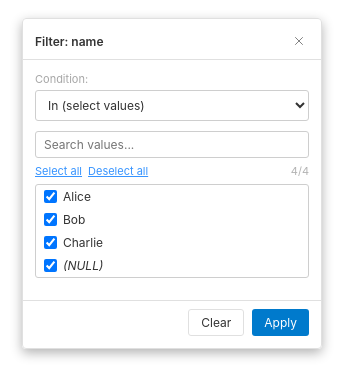
Test case: FilterPopup › IN filter with distinct values › search filters displayed values
Select "In (select values)" in the dropdown at [172, 106], box [35,90,309,121]
Type "Ali" into the field with placeholder "Search values..." at [172, 144], box [35,131,309,158]
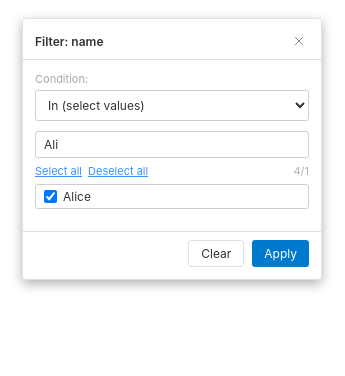
Check: the text "Alice" is shown, box [63,189,91,204]
Check: the text "Bob" is gone
